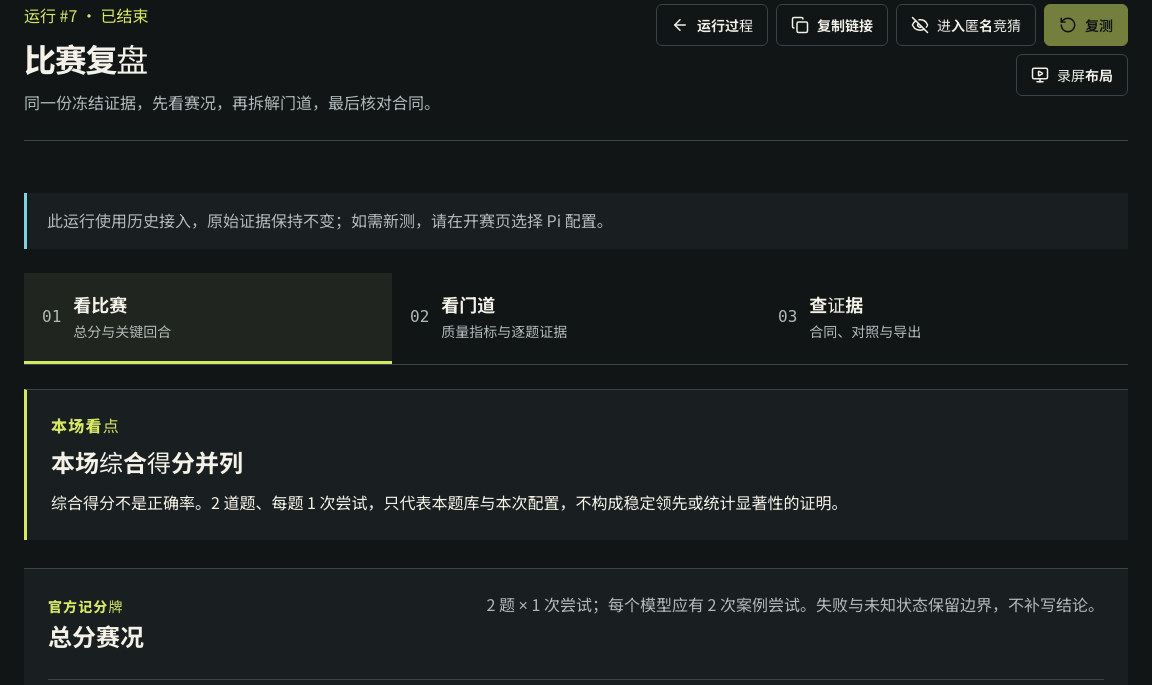
Scenario: ReportPage › shows error-completed runs as ended and hides scores until prediction reveal
Expected: the button "复测" is disabled, [1044,4,1128,46]
Click the button "进入匿名竞猜" at (966, 25), box [896,4,1036,46]
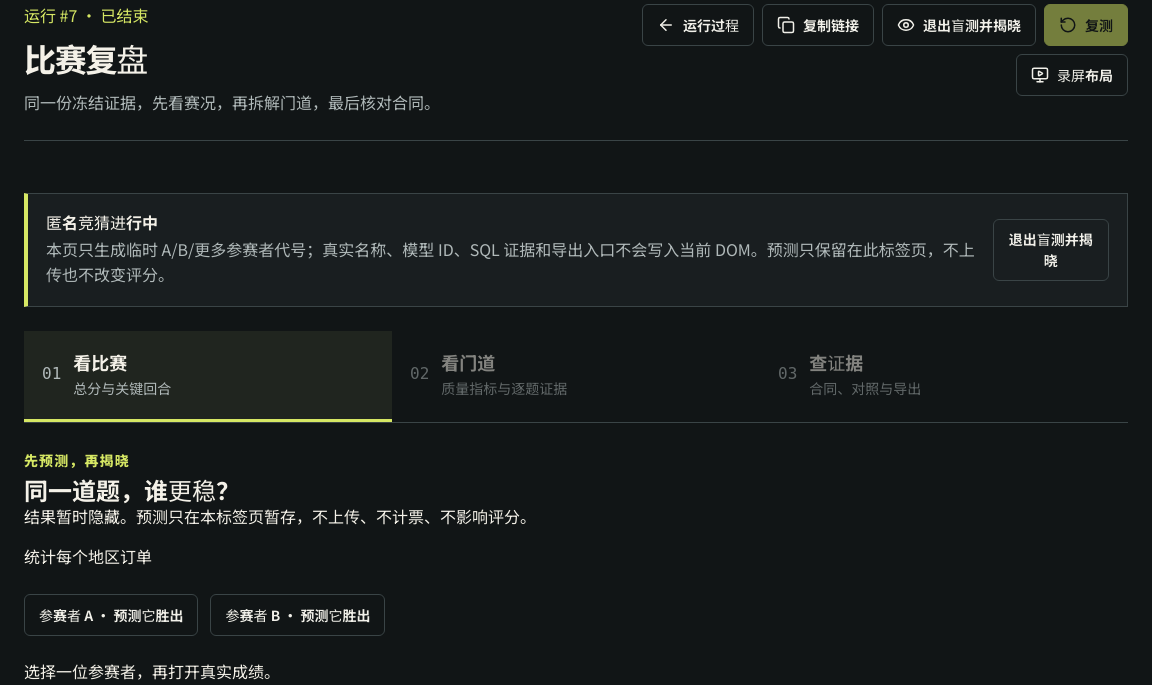
Expected: the button "02 看门道 质量指标与逐题证据" is disabled, [392,331,760,422]
Click the button "参赛者 A · 预测它胜出" at (111, 615), box [24,594,198,636]
(page scrolled)
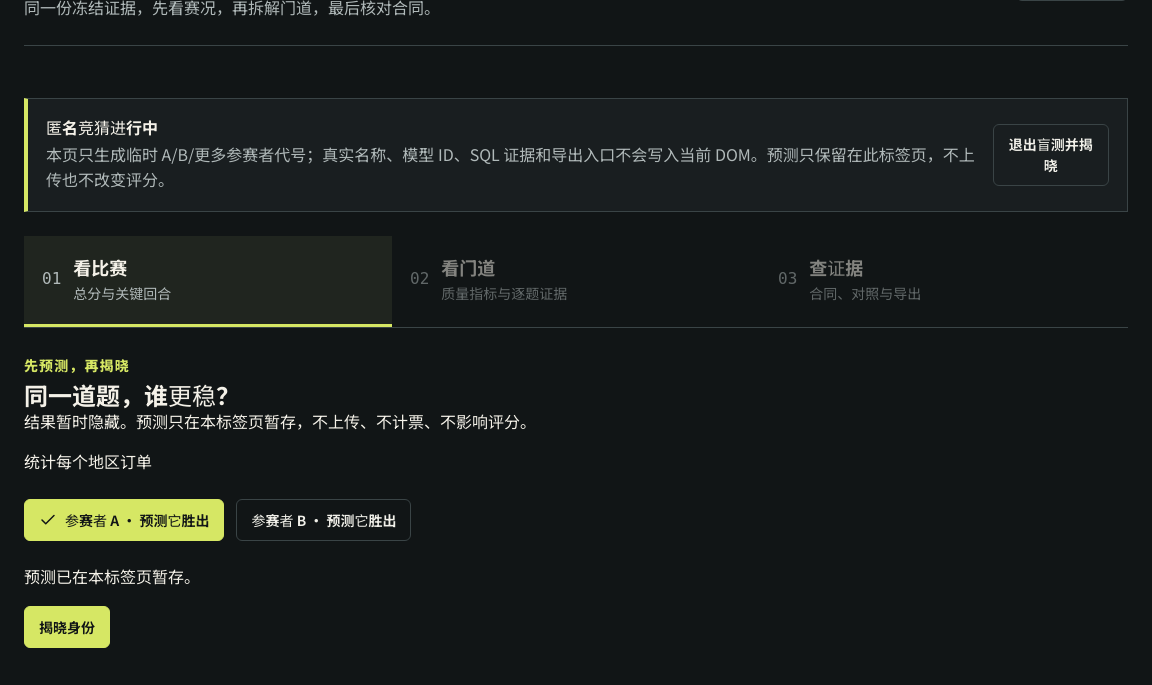
Expected: the text "预测已在本标签页暂存。" is shown, [24,567,200,586]
Click the button "揭晓身份" at (67, 627), box [24,606,110,648]
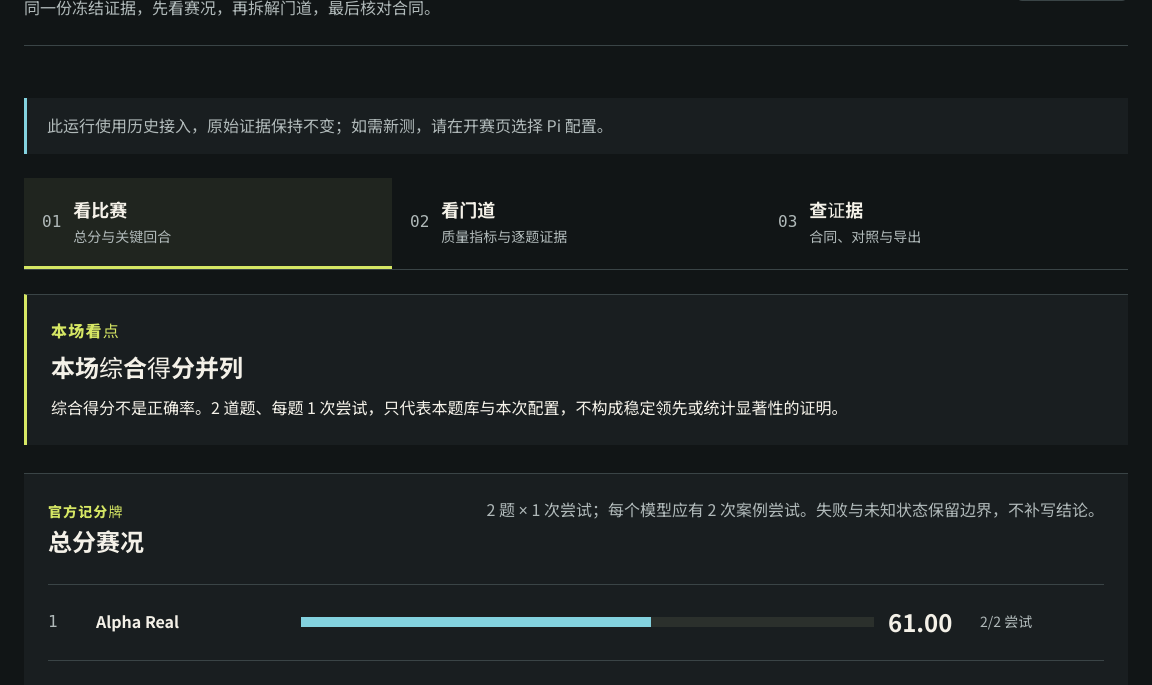
Expected: the text "Alpha Real" is shown, [96,612,179,631]
